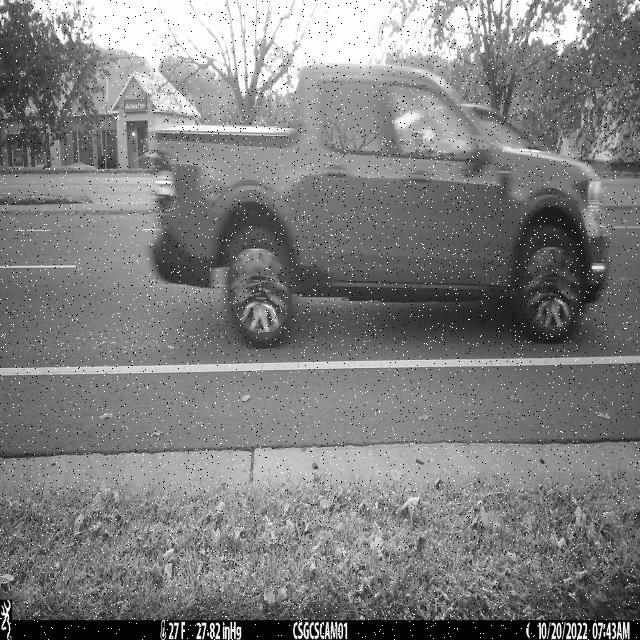Pickup: (145, 62, 610, 350)
